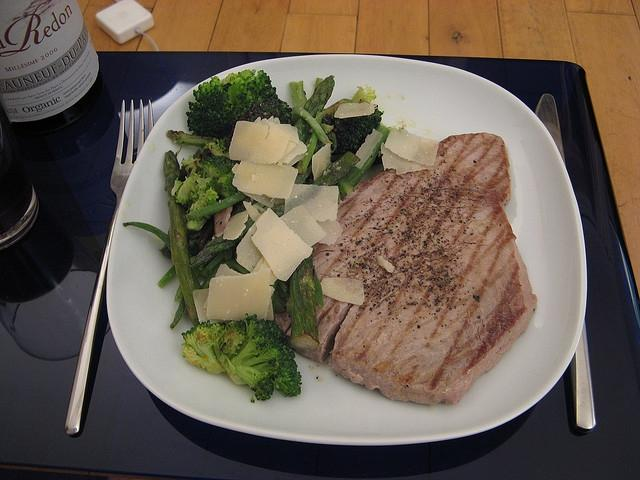asparagus: (163, 150, 202, 318), (286, 246, 320, 349), (191, 214, 255, 268), (294, 74, 335, 142), (186, 192, 247, 222), (312, 151, 361, 186), (166, 130, 214, 147), (289, 80, 307, 108)
broccoli: (180, 313, 302, 404), (186, 70, 293, 139), (321, 109, 384, 156), (189, 155, 238, 213), (175, 166, 201, 206), (208, 142, 226, 156), (198, 161, 210, 178)
